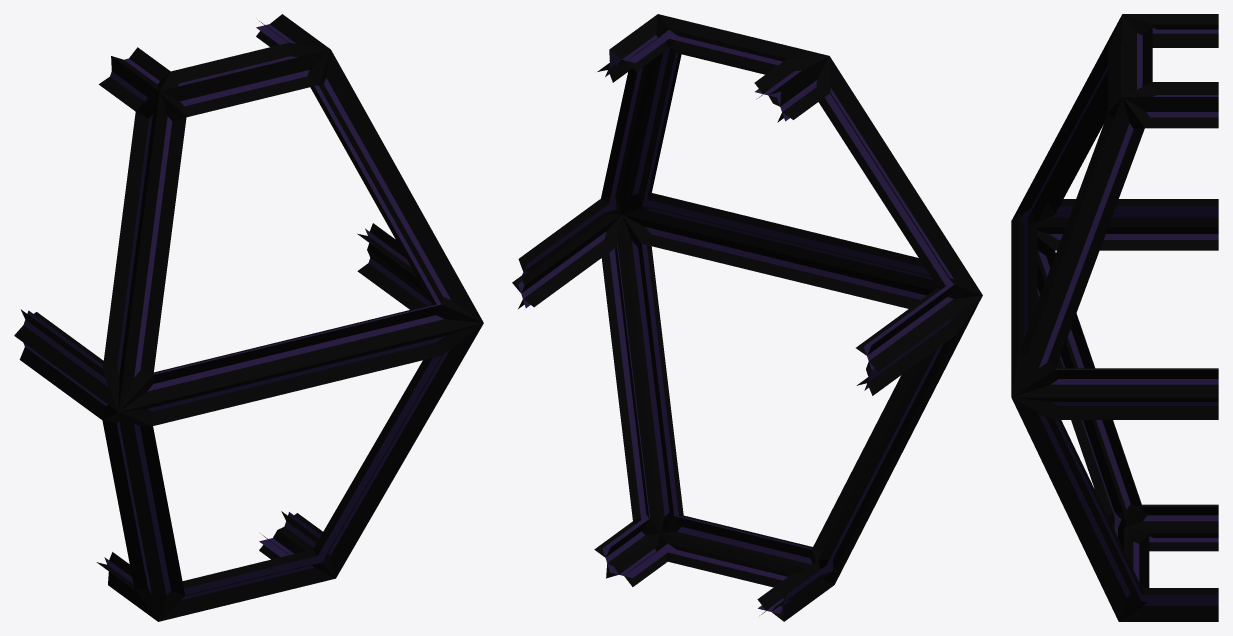
The model's file is Brokenlantern2.fbx.
3 renders of one model, left to right at view 1: azimuth 30°, elevation 25°; view 2: azimuth 150°, elevation 25°; view 3: azimuth 270°, elevation 25°, orthographic.
Visible parts, largest first — view 1: Cube.001; view 2: Cube.001; view 3: Cube.001.
Boxes of the visible parts, bbox=[...] form: Cube.001: bbox=[14, 14, 483, 621]; Cube.001: bbox=[512, 14, 982, 621]; Cube.001: bbox=[1011, 14, 1218, 621].
Bounding box in the file's own units: 253 × 352 × 125.
